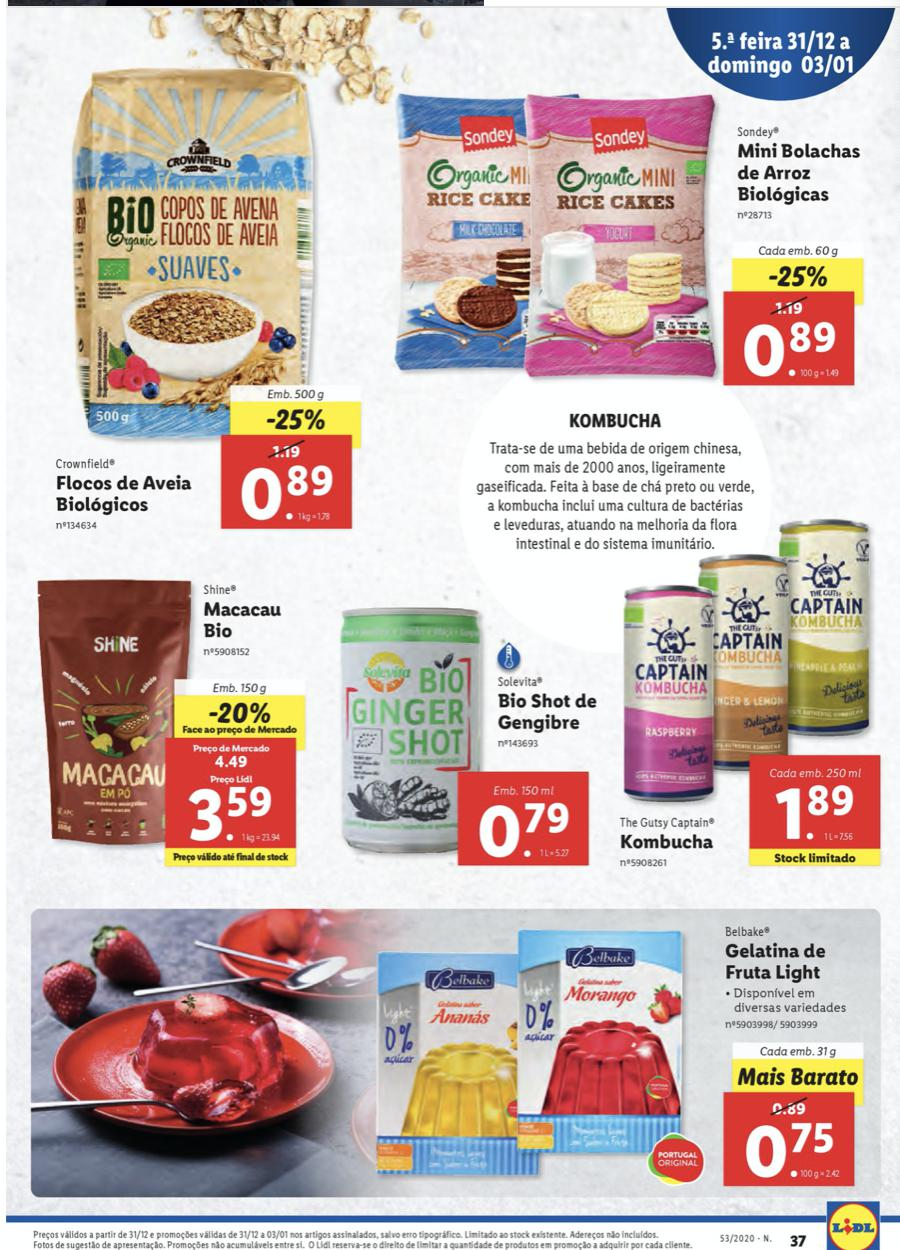name: (733, 135, 870, 203), (51, 470, 201, 520), (493, 687, 602, 735), (725, 940, 834, 987), (201, 600, 285, 640), (618, 830, 721, 856)
price: (470, 796, 571, 867), (184, 778, 278, 850), (739, 1118, 838, 1186), (239, 461, 344, 524), (741, 315, 834, 386), (771, 781, 859, 847)
product: (34, 53, 371, 538), (361, 910, 891, 1198), (608, 492, 896, 873), (24, 561, 313, 878), (313, 589, 605, 878)
promotion: (204, 696, 276, 727), (767, 266, 841, 293), (265, 406, 328, 436)
